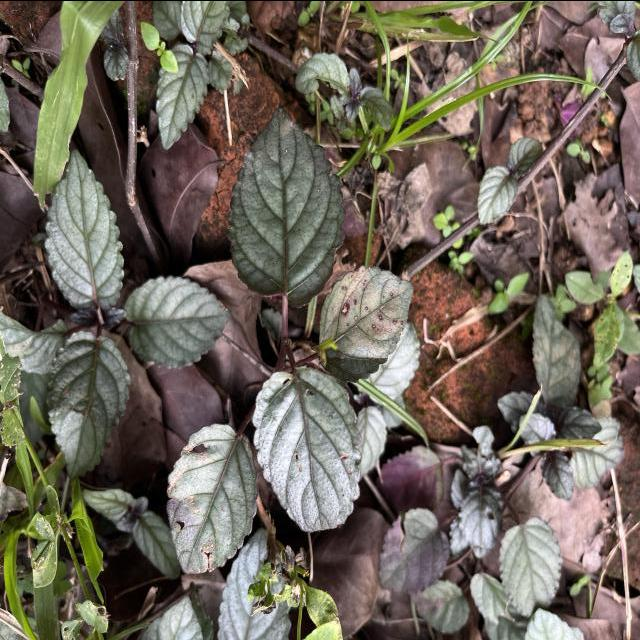Hemigraphis colorata: (223, 103, 349, 309), (251, 362, 366, 534), (162, 421, 263, 576), (41, 327, 136, 483), (41, 146, 128, 316), (314, 262, 419, 386), (121, 269, 236, 372), (496, 512, 566, 620), (152, 41, 212, 153)
